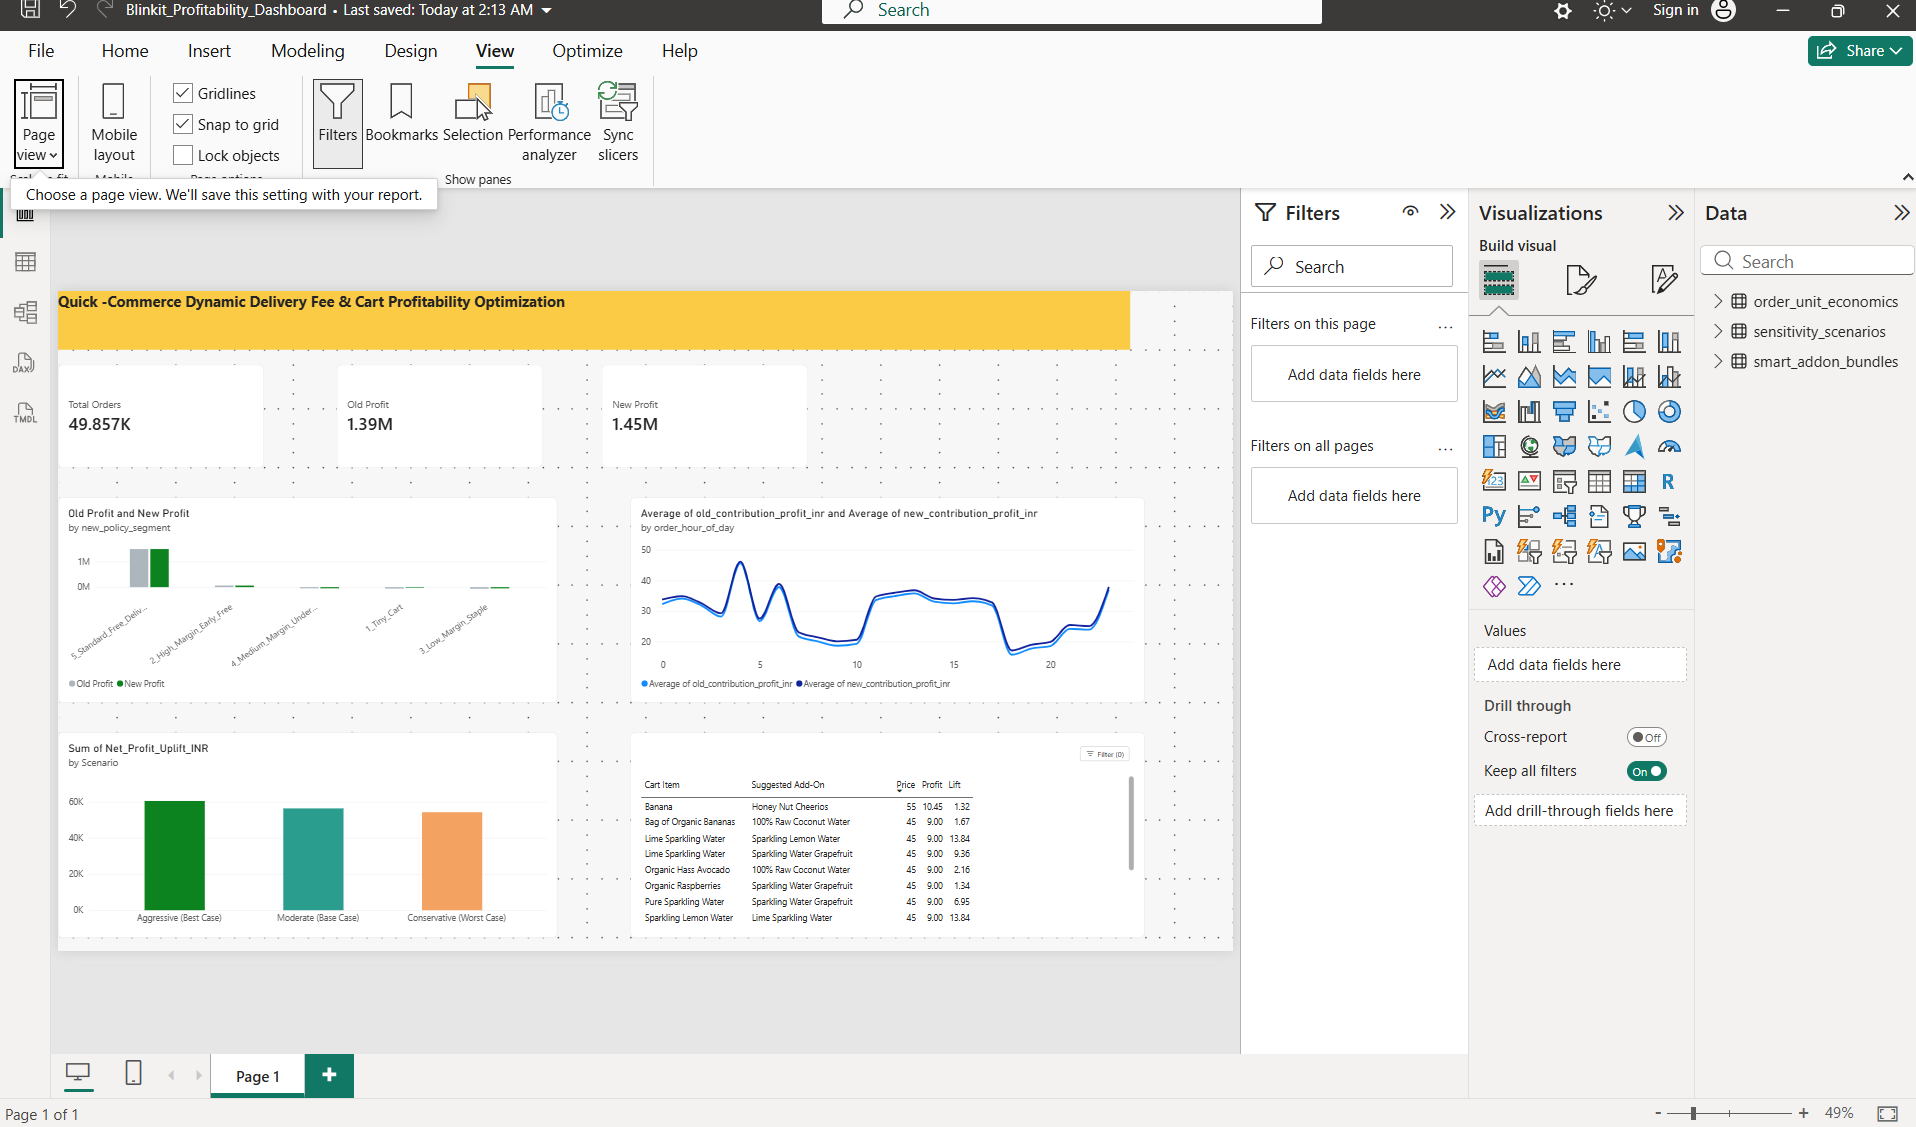

The page's visual inventory and layout, read from the dashboard file:
{"tool":"powerbi","page":{"name":"Page 1","canvas":[1920,1080],"ordinal":0},"visuals":[{"type":"textbox","box":[0,0,1752,96],"z":0},{"type":"cardVisual","fields":{"Data":["Count(order_unit_economics.order_id)"]},"box":[0,120,336,168],"z":1},{"type":"cardVisual","fields":{"Data":["Sum(order_unit_economics.new_contribution_profit_inr)"]},"box":[888,120,336,168],"z":2},{"type":"cardVisual","fields":{"Data":["Sum(order_unit_economics.old_contribution_profit_inr)"]},"box":[456,120,336,168],"z":3},{"type":"clusteredColumnChart","fields":{"Category":["order_unit_economics.new_policy_segment"],"Y":["Sum(order_unit_economics.old_contribution_profit_inr)","Sum(order_unit_economics.new_contribution_profit_inr)"]},"box":[0,336,816,336],"z":4},{"type":"lineChart","fields":{"Category":["order_unit_economics.order_hour_of_day"],"Y":["Avg(order_unit_economics.old_contribution_profit_inr)","Avg(order_unit_economics.new_contribution_profit_inr)"]},"box":[936,336,840,336],"z":5},{"type":"clusteredColumnChart","fields":{"Category":["sensitivity_scenarios.Scenario"],"Y":["Sum(sensitivity_scenarios.Net_Profit_Uplift_INR)"]},"box":[0,720,816,336],"z":6},{"type":"tableEx","fields":{"Values":["smart_addon_bundles.trigger_item","smart_addon_bundles.recommended_addon","Sum(smart_addon_bundles.unit_price_inr)","Sum(smart_addon_bundles.item_profit_inr)","Sum(smart_addon_bundles.lift)"]},"box":[936,720,840,336],"z":7}]}

Visuals, with their boxes on the page's 1920x1080 design canvas (x1, y1, x2, y2). These are canvas units, not pixel positions in the 1916x1127 screenshot, which may show the page scaled, cropped or inside an application window:
textbox: 0/0/1752/96
cardVisual - Count(order_unit_economics.order_id): 0/120/336/288
cardVisual - Sum(order_unit_economics.new_contribution_profit_inr): 888/120/1224/288
cardVisual - Sum(order_unit_economics.old_contribution_profit_inr): 456/120/792/288
clusteredColumnChart - order_unit_economics.new_policy_segment x Sum(order_unit_economics.old_contribution_profit_inr): 0/336/816/672
lineChart - order_unit_economics.order_hour_of_day x Avg(order_unit_economics.old_contribution_profit_inr): 936/336/1776/672
clusteredColumnChart - sensitivity_scenarios.Scenario x Sum(sensitivity_scenarios.Net_Profit_Uplift_INR): 0/720/816/1056
tableEx - smart_addon_bundles.trigger_item x smart_addon_bundles.recommended_addon: 936/720/1776/1056
